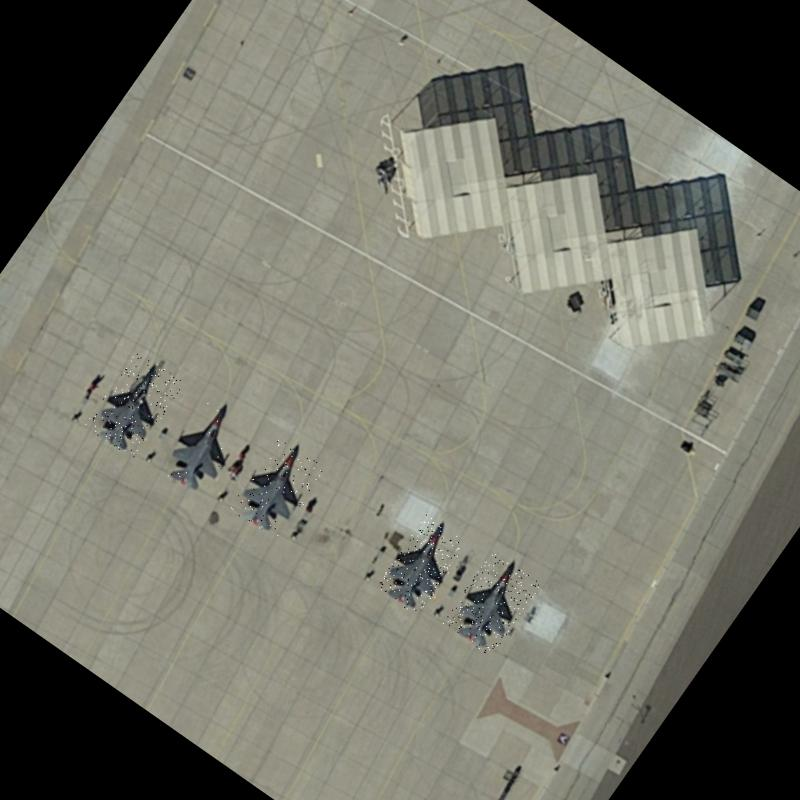A5: (84, 350, 186, 460), (154, 392, 255, 501), (442, 550, 542, 658), (228, 436, 328, 544), (375, 515, 469, 618)
